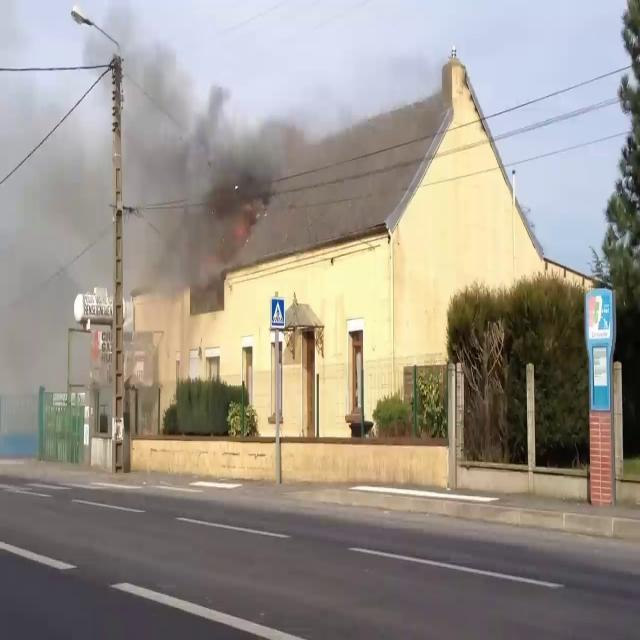Smoke: (1, 1, 287, 315)
